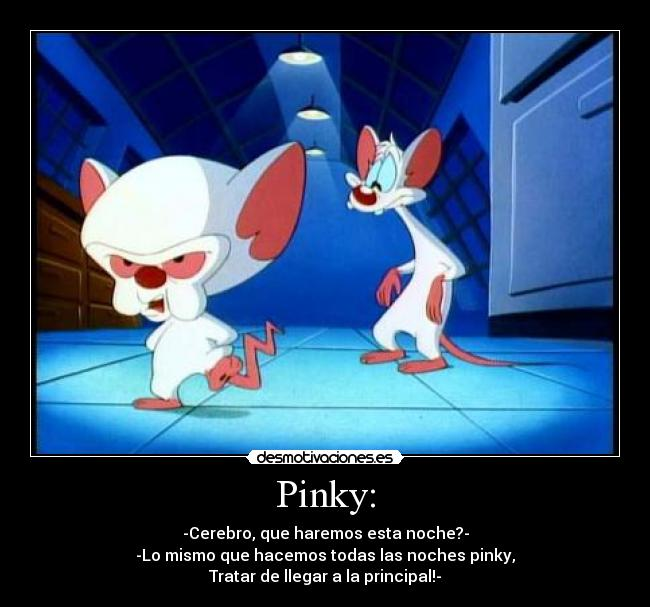cerebro: (55, 142, 310, 409)
pink: (342, 119, 580, 393)
